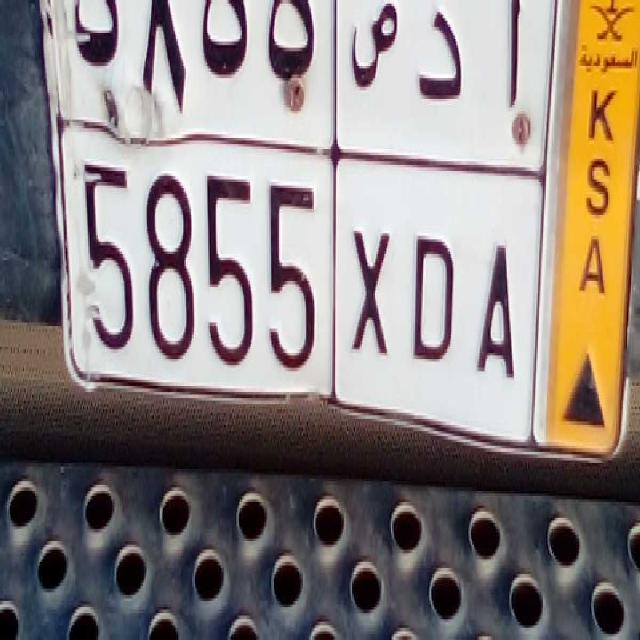license_plate: (72, 124, 529, 423)
